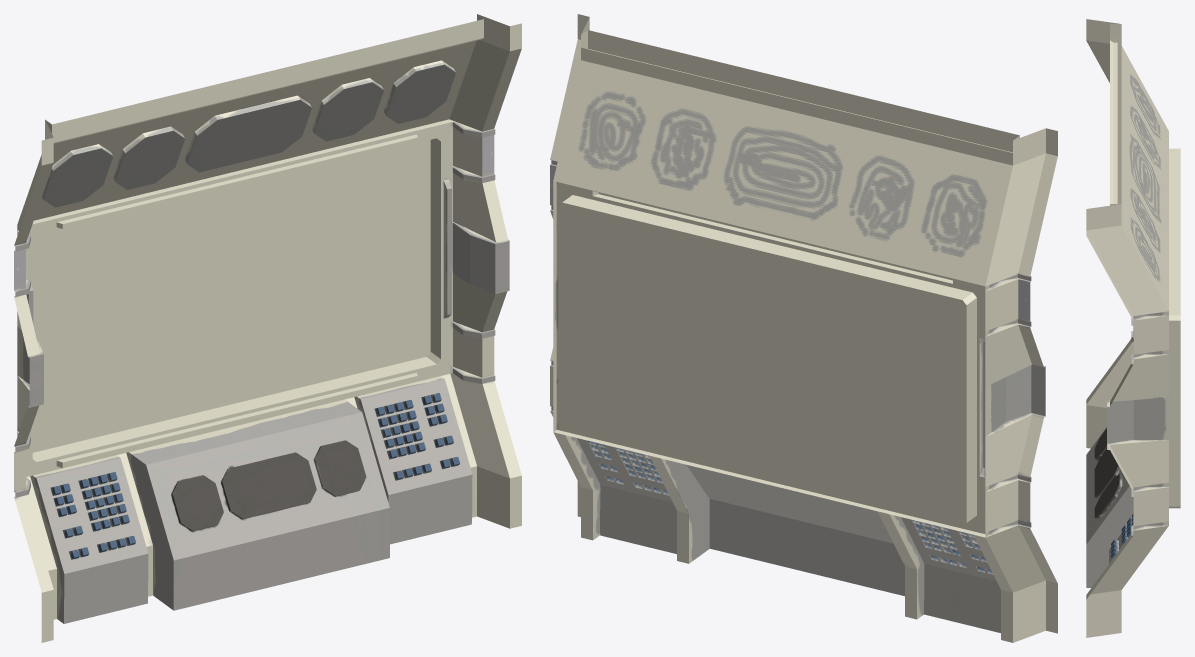
Rendered from Wall_straight_normal.fbx.
The picture shows the model from 3 angles, left to right: view 1: azimuth 30°, elevation 25°; view 2: azimuth 150°, elevation 25°; view 3: azimuth 270°, elevation 25°; orthographic projection. The views are drawn at different scales.
Parts seen in each view (by area): view 1: node_id7 (×2); view 2: node_id7 (×2); view 3: node_id7 (×2).
Boxes of the visible parts, left/top/right/bottom form: node_id7 (×2): left=14, top=14, right=521, bottom=642; node_id7 (×2): left=550, top=14, right=1057, bottom=642; node_id7 (×2): left=1086, top=19, right=1180, bottom=637.
Bounding box in the file's own units: 0.512 × 0.512 × 0.1024.
2 materials, 2 textured.
